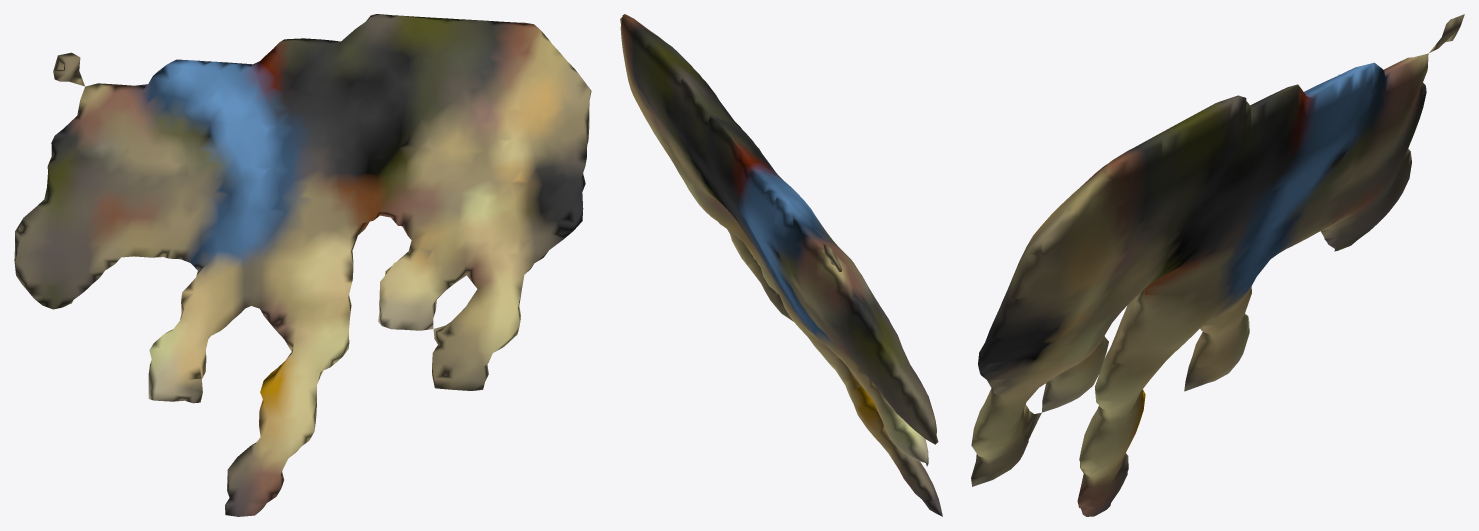
Rendered from allied_attack_dog.glb.
3 renders of one model, left to right at view 1: azimuth 30°, elevation 25°; view 2: azimuth 150°, elevation 25°; view 3: azimuth 270°, elevation 25°, orthographic. The views are drawn at different scales.
Visible parts, largest first — view 1: allied_attack_dog; view 2: allied_attack_dog; view 3: allied_attack_dog.
Part boxes in pixels (left/top/right/bottom): allied_attack_dog: left=14, top=14, right=591, bottom=516; allied_attack_dog: left=620, top=14, right=942, bottom=516; allied_attack_dog: left=971, top=14, right=1464, bottom=516.
Bounding box in the file's own units: 1.96 × 1.77 × 1.48.
